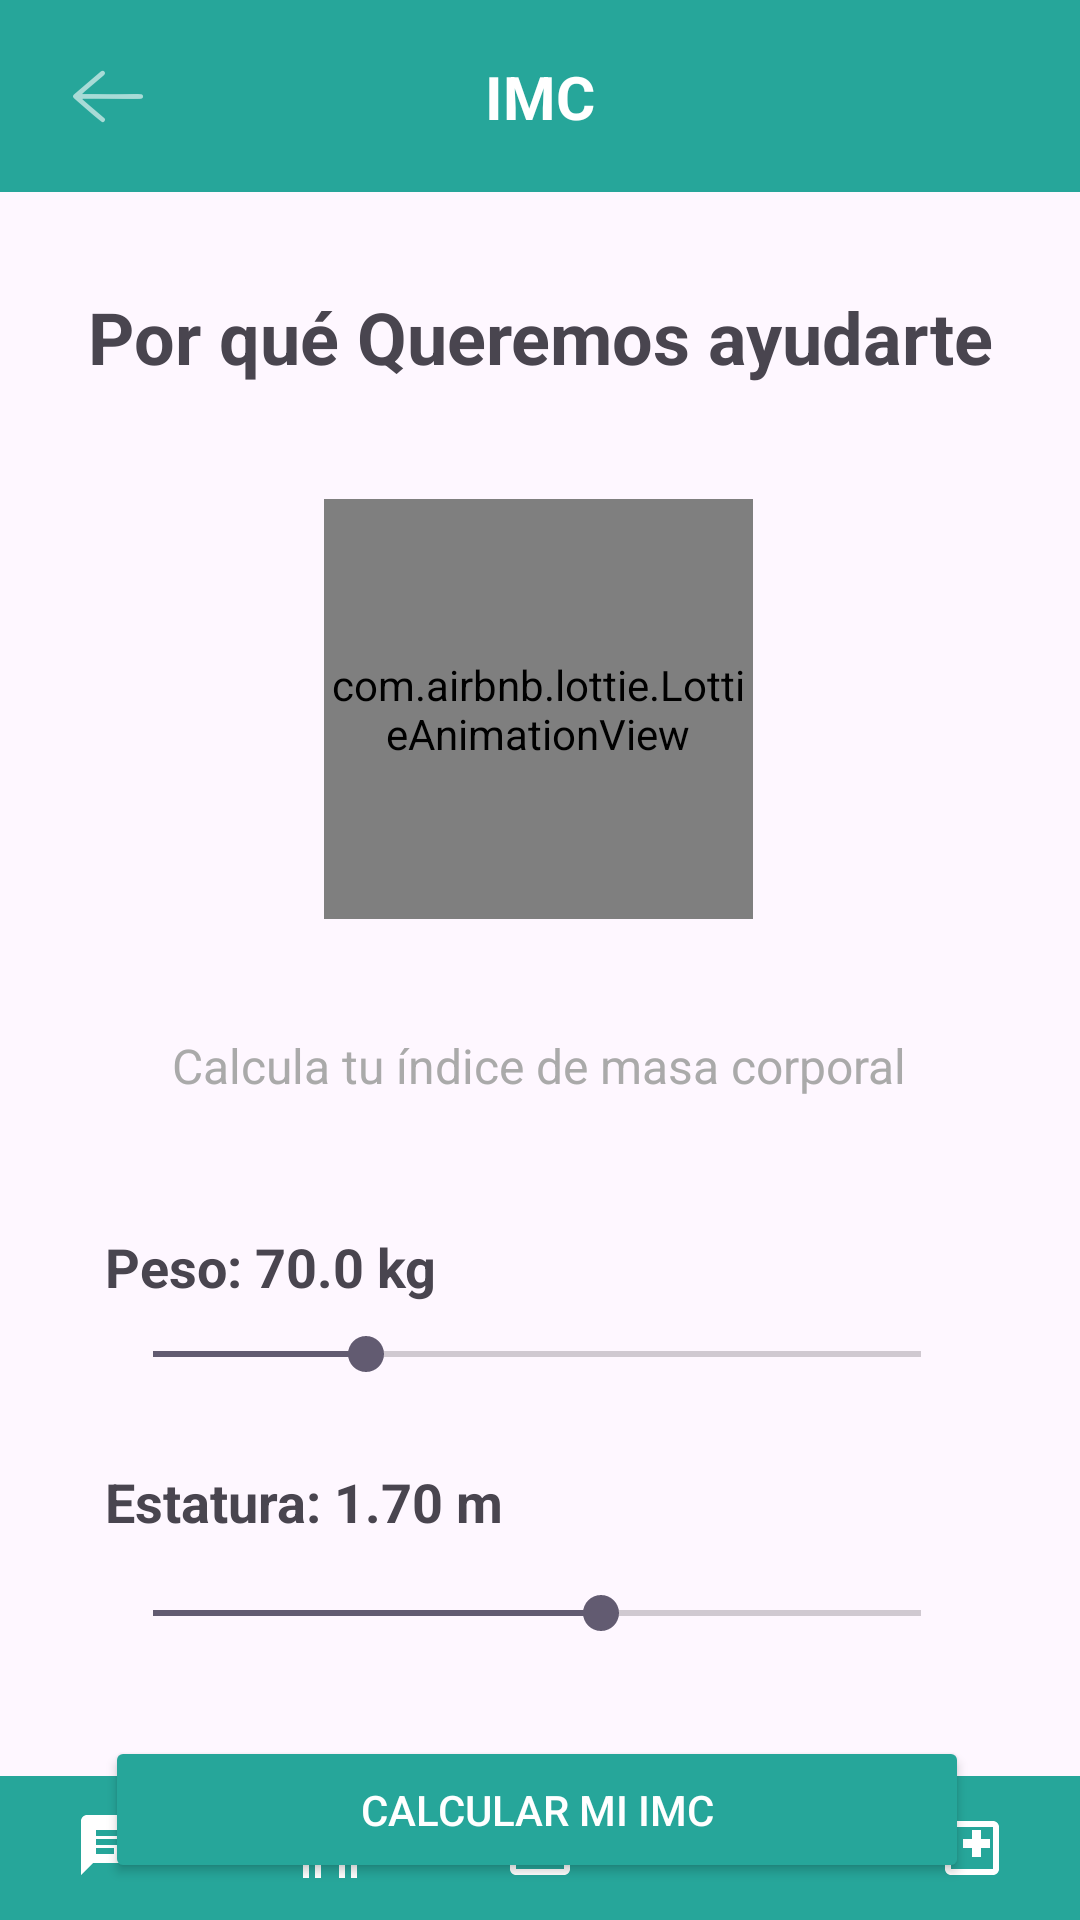

Locate icon controls on the screen. Image size 1080px x 1920px, boxes as bbox(x1, y1, x2, y2).
Botón para cerrar sesión y volver a Login: bbox(73, 71, 143, 122)
